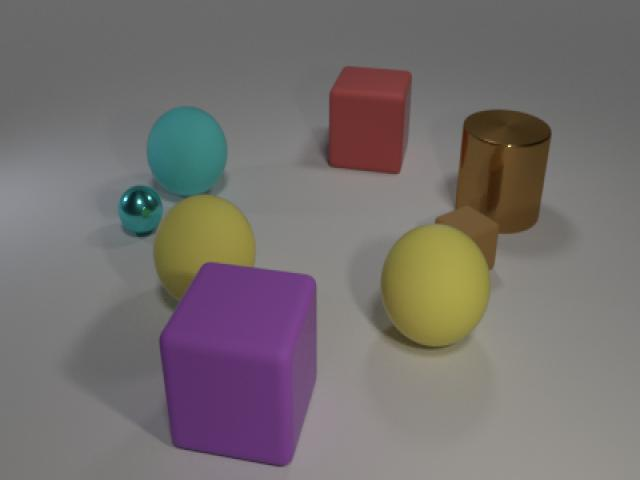cylinder: (453, 104, 554, 235)
round ball: (375, 218, 498, 353), (154, 194, 258, 307), (144, 101, 230, 196), (116, 178, 165, 238)
